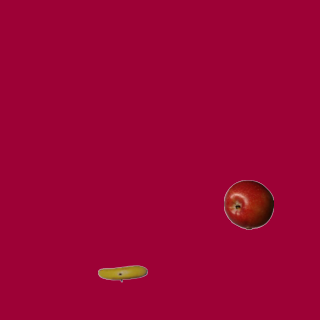Apple Braeburn: (223, 179, 273, 229)
Banana: (97, 248, 147, 298)
